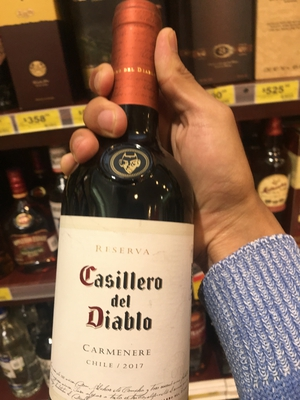casillero del diablo carmenere: (50, 14, 198, 400)
